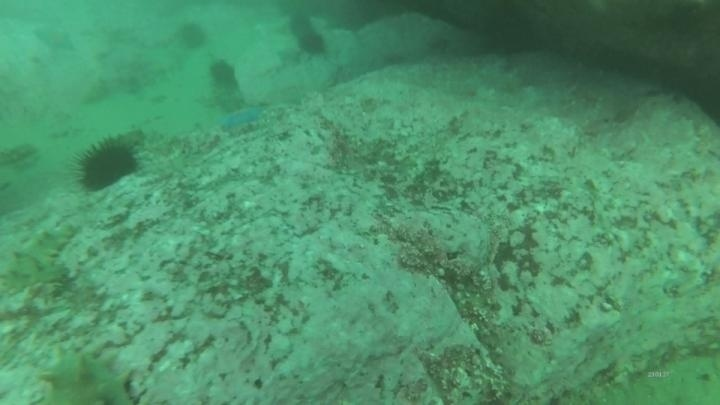echinus: (73, 136, 141, 194), (478, 5, 542, 58), (176, 20, 210, 52), (207, 58, 239, 89), (296, 30, 329, 58), (280, 10, 313, 38)
holothurian: (1, 221, 78, 295), (38, 348, 138, 404), (1, 129, 37, 173)
starfish: (32, 24, 78, 55), (218, 103, 266, 131)
